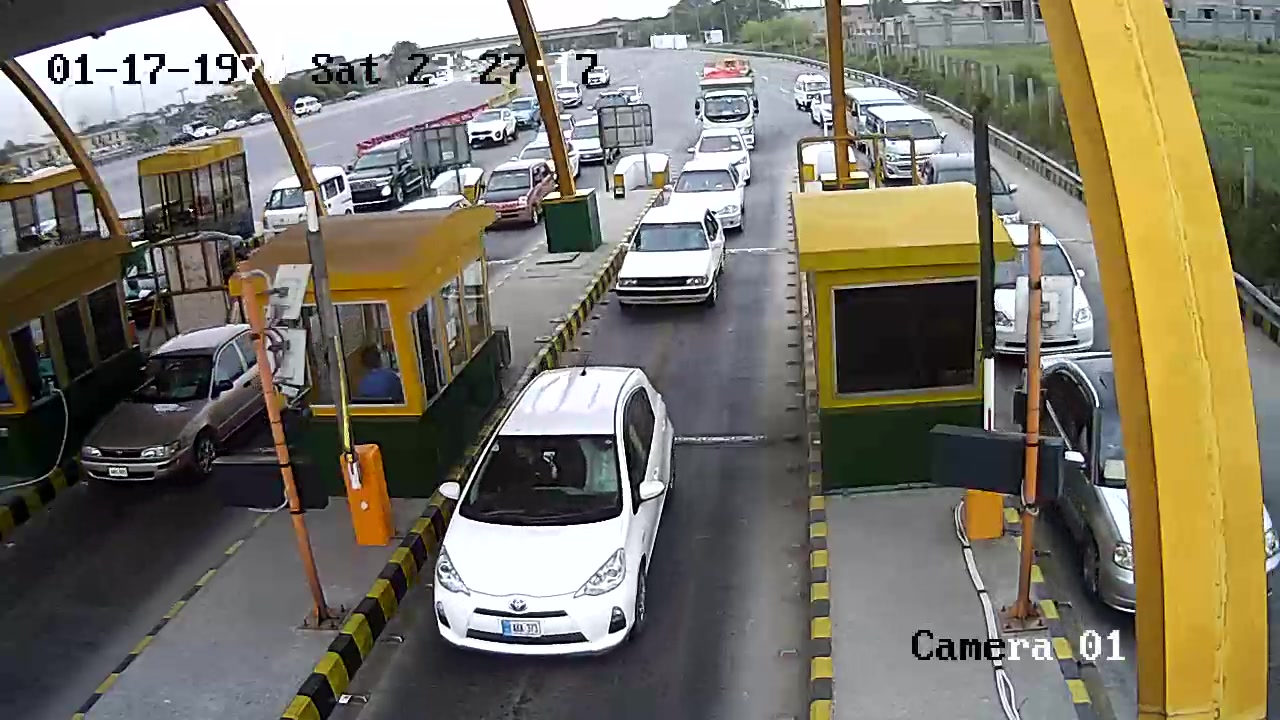F1: (412, 351, 682, 662)
